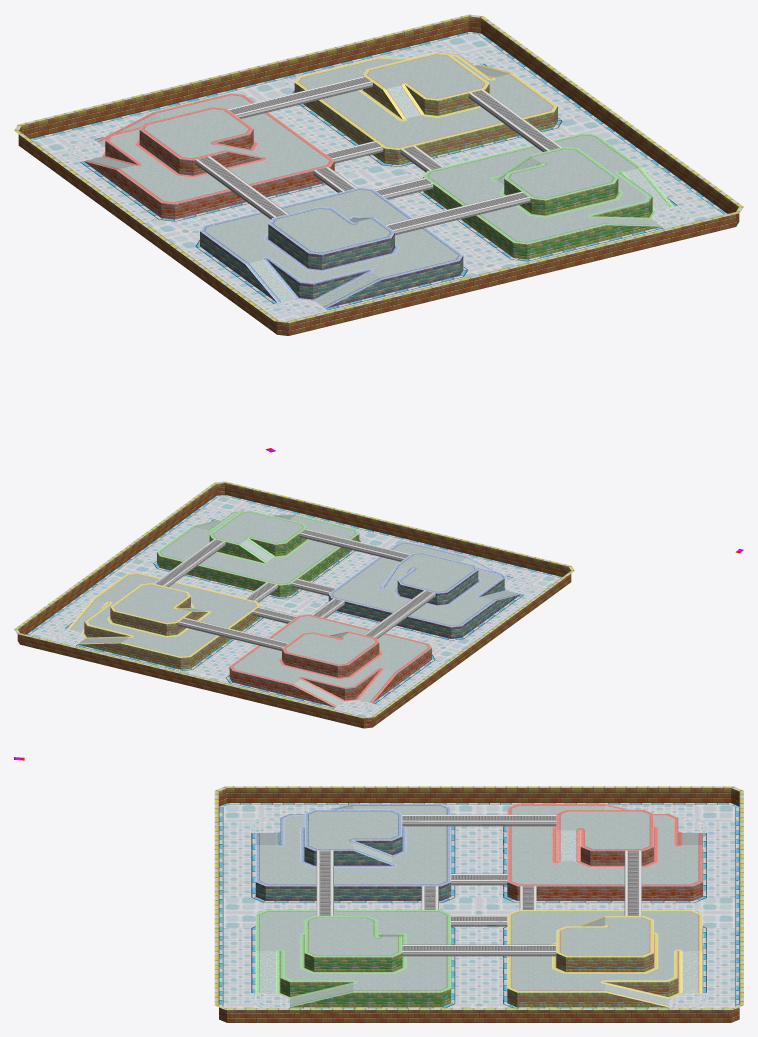
Rendered from MarioKart_BattleField.fbx.
3 renders of one model, top to bottom at view 1: azimuth 30°, elevation 25°; view 2: azimuth 150°, elevation 25°; view 3: azimuth 270°, elevation 25°, orthographic. The views are drawn at different scales.
Visible parts, largest first — view 1: polygon5_1, polygon1_1, polygon2_1, polygon6_1, polygon7_3, polygon9_1, polygon0_1, polygon8_1, polygon10_1, polygon4_1; view 2: polygon5_1, polygon1_1, polygon2_1, polygon6_1, polygon7_3, polygon0_1, polygon8_1, polygon4_1, polygon9_1, polygon10_1; view 3: polygon5_1, polygon2_1, polygon1_1, polygon6_1, polygon7_3, polygon0_1, polygon4_1, polygon10_1, polygon9_1, polygon8_1.
Boxes of the visible parts, bbox=[...] form: polygon5_1: bbox=[88, 54, 669, 306]; polygon1_1: bbox=[14, 14, 743, 335]; polygon2_1: bbox=[32, 33, 723, 320]; polygon6_1: bbox=[84, 52, 673, 308]; polygon7_3: bbox=[195, 76, 561, 235]; polygon9_1: bbox=[200, 224, 463, 308]; polygon0_1: bbox=[30, 31, 727, 309]; polygon8_1: bbox=[84, 129, 334, 219]; polygon10_1: bbox=[423, 177, 660, 259]; polygon4_1: bbox=[294, 75, 557, 164]; polygon5_1: bbox=[71, 512, 517, 705]; polygon1_1: bbox=[14, 481, 574, 728]; polygon2_1: bbox=[29, 496, 560, 716]; polygon6_1: bbox=[68, 510, 520, 707]; polygon7_3: bbox=[153, 529, 435, 650]; polygon0_1: bbox=[26, 494, 561, 708]; polygon8_1: bbox=[229, 643, 431, 707]; polygon4_1: bbox=[77, 597, 260, 669]; polygon9_1: bbox=[328, 570, 520, 638]; polygon10_1: bbox=[157, 528, 359, 596]; polygon5_1: bbox=[260, 805, 698, 1005]; polygon2_1: bbox=[223, 804, 735, 1008]; polygon1_1: bbox=[214, 786, 743, 1022]; polygon6_1: bbox=[255, 803, 702, 1007]; polygon7_3: bbox=[316, 814, 641, 956]; polygon0_1: bbox=[219, 803, 739, 1008]; polygon4_1: bbox=[507, 953, 678, 1007]; polygon10_1: bbox=[280, 953, 450, 1007]; polygon9_1: bbox=[255, 836, 450, 900]; polygon8_1: bbox=[507, 847, 702, 900].
Bounding box in the file's own units: 5902 × 394 × 6571.
